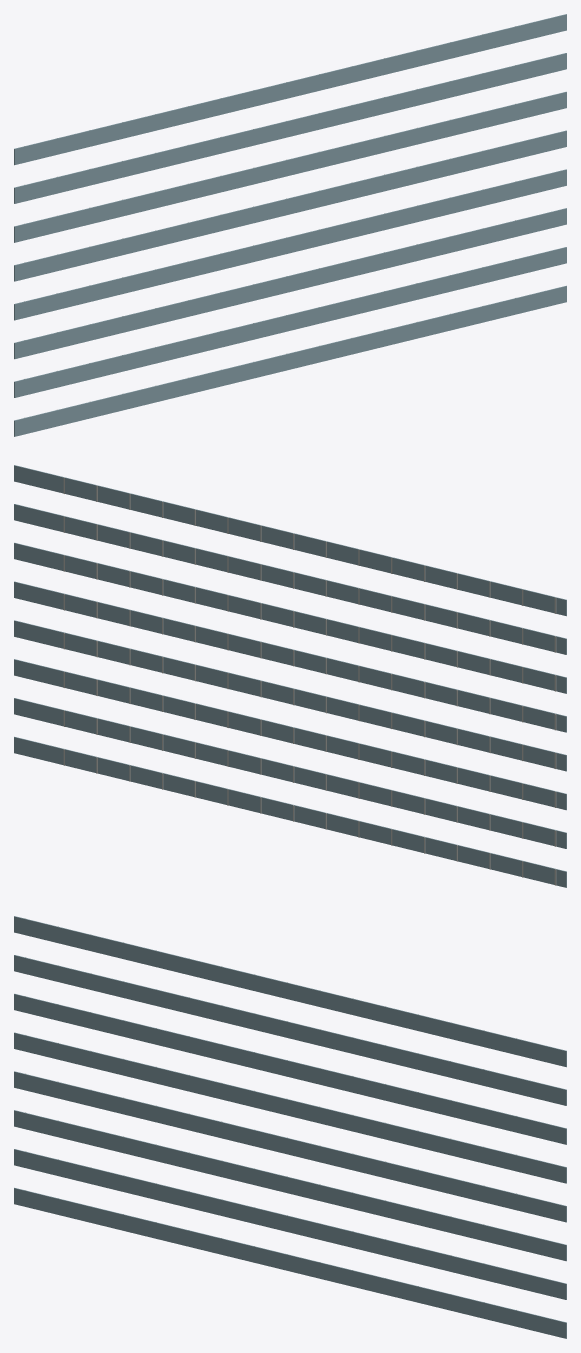
File: 20261103-east-museum-detail.glb
3 renders of one model, top to bottom at view 1: azimuth 30°, elevation 25°; view 2: azimuth 150°, elevation 25°; view 3: azimuth 330°, elevation 25°, orthographic.
Parts seen in each view (by area): view 1: North historical museum - approximate ribbon glazing 00, North historical museum - approximate ribbon glazing 07, North historical museum - approximate ribbon glazing 02, North historical museum - approximate ribbon glazing 03, North historical museum - approximate ribbon glazing 04, North historical museum - approximate ribbon glazing 05, North historical museum - approximate ribbon glazing 01, North historical museum - approximate ribbon glazing 06; view 2: North historical museum - approximate ribbon glazing 03, North historical museum - approximate ribbon glazing 02, North historical museum - approximate ribbon glazing 07, North historical museum - approximate ribbon glazing 04, North historical museum - approximate ribbon glazing 05, North historical museum - approximate ribbon glazing 00, North historical museum - approximate ribbon glazing 01, North historical museum - approximate ribbon glazing 06, North historical museum - approximate window divisions 00, North historical museum - approximate window divisions 05, North historical museum - approximate window divisions 06, North historical museum - approximate window divisions 01 (+4 smaller); view 3: North historical museum - approximate ribbon glazing 00, North historical museum - approximate ribbon glazing 07, North historical museum - approximate ribbon glazing 02, North historical museum - approximate ribbon glazing 03, North historical museum - approximate ribbon glazing 04, North historical museum - approximate ribbon glazing 05, North historical museum - approximate ribbon glazing 01, North historical museum - approximate ribbon glazing 06.
Part boxes in pixels (x1,y1,x2,y2): North historical museum - approximate ribbon glazing 00: (14, 285, 566, 436); North historical museum - approximate ribbon glazing 07: (14, 14, 566, 165); North historical museum - approximate ribbon glazing 02: (14, 208, 566, 359); North historical museum - approximate ribbon glazing 03: (14, 169, 566, 320); North historical museum - approximate ribbon glazing 04: (14, 130, 566, 281); North historical museum - approximate ribbon glazing 05: (14, 91, 566, 242); North historical museum - approximate ribbon glazing 01: (14, 247, 566, 397); North historical museum - approximate ribbon glazing 06: (14, 53, 566, 203); North historical museum - approximate ribbon glazing 03: (14, 620, 566, 771); North historical museum - approximate ribbon glazing 02: (14, 659, 566, 810); North historical museum - approximate ribbon glazing 07: (14, 465, 566, 616); North historical museum - approximate ribbon glazing 04: (14, 581, 566, 732); North historical museum - approximate ribbon glazing 05: (14, 542, 566, 693); North historical museum - approximate ribbon glazing 00: (14, 736, 566, 887); North historical museum - approximate ribbon glazing 01: (14, 698, 566, 848); North historical museum - approximate ribbon glazing 06: (14, 504, 566, 654); North historical museum - approximate window divisions 00: (63, 749, 556, 885); North historical museum - approximate window divisions 05: (63, 555, 556, 691); North historical museum - approximate window divisions 06: (63, 516, 556, 652); North historical museum - approximate window divisions 01: (63, 710, 556, 846); North historical museum - approximate ribbon glazing 00: (14, 1187, 566, 1338); North historical museum - approximate ribbon glazing 07: (14, 916, 566, 1067); North historical museum - approximate ribbon glazing 02: (14, 1110, 566, 1261); North historical museum - approximate ribbon glazing 03: (14, 1071, 566, 1222); North historical museum - approximate ribbon glazing 04: (14, 1032, 566, 1183); North historical museum - approximate ribbon glazing 05: (14, 993, 566, 1144); North historical museum - approximate ribbon glazing 01: (14, 1149, 566, 1299); North historical museum - approximate ribbon glazing 06: (14, 955, 566, 1105).
Size of the model in its own units: 54 by 26.88 by 0.14.
